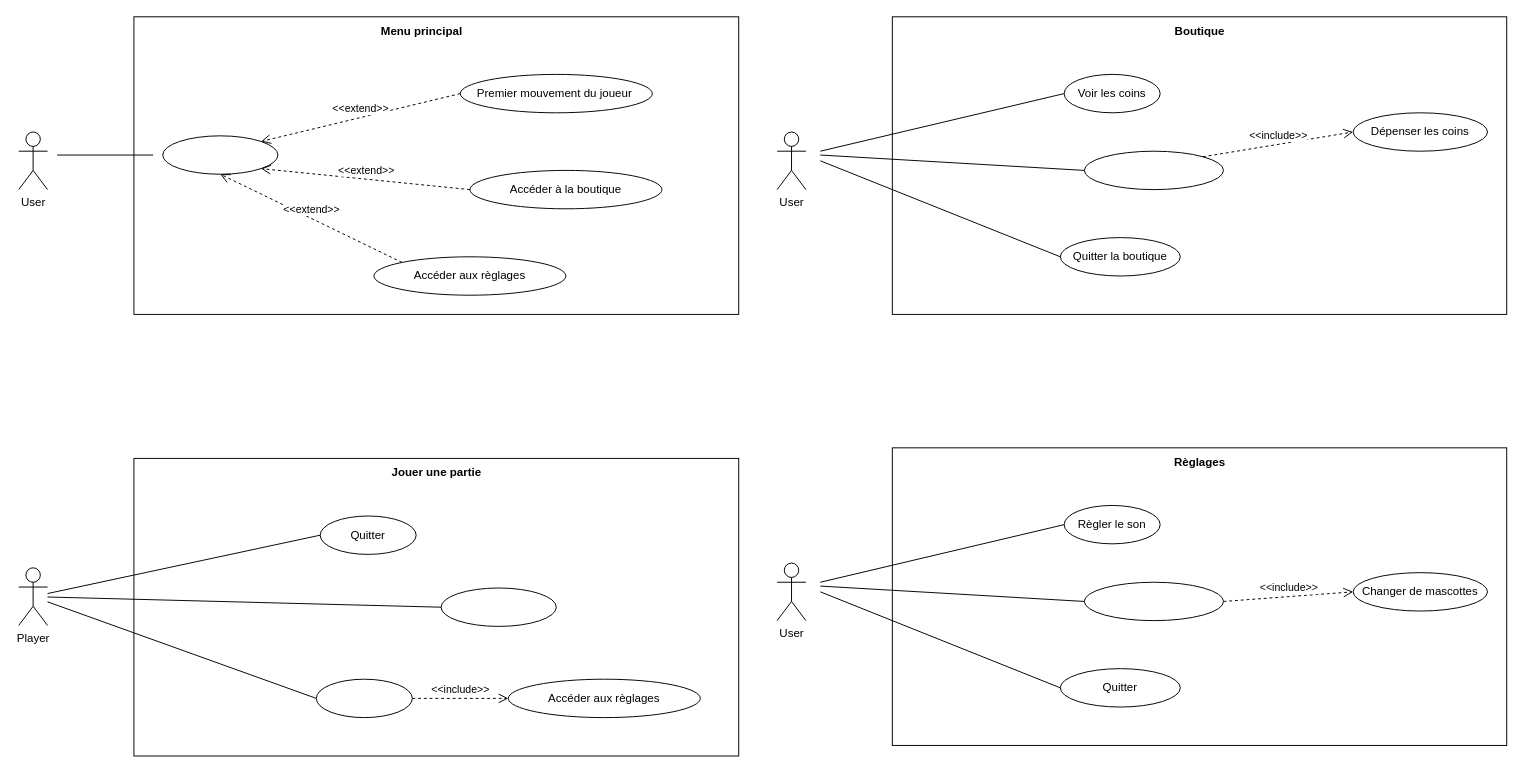
This 1524x773 diagram has some shape labels left out. The centre of each missing label's shape, as x and y in pixels:
"Acheter un cosmétique" belongs at (x=1153, y=170).
"Lancer le jeu" belongs at (x=220, y=154).
"Rejouer" belongs at (x=363, y=698).
"Se déplacer" belongs at (x=498, y=606).
"Voir les mascottes possédées" belongs at (x=1153, y=601).
